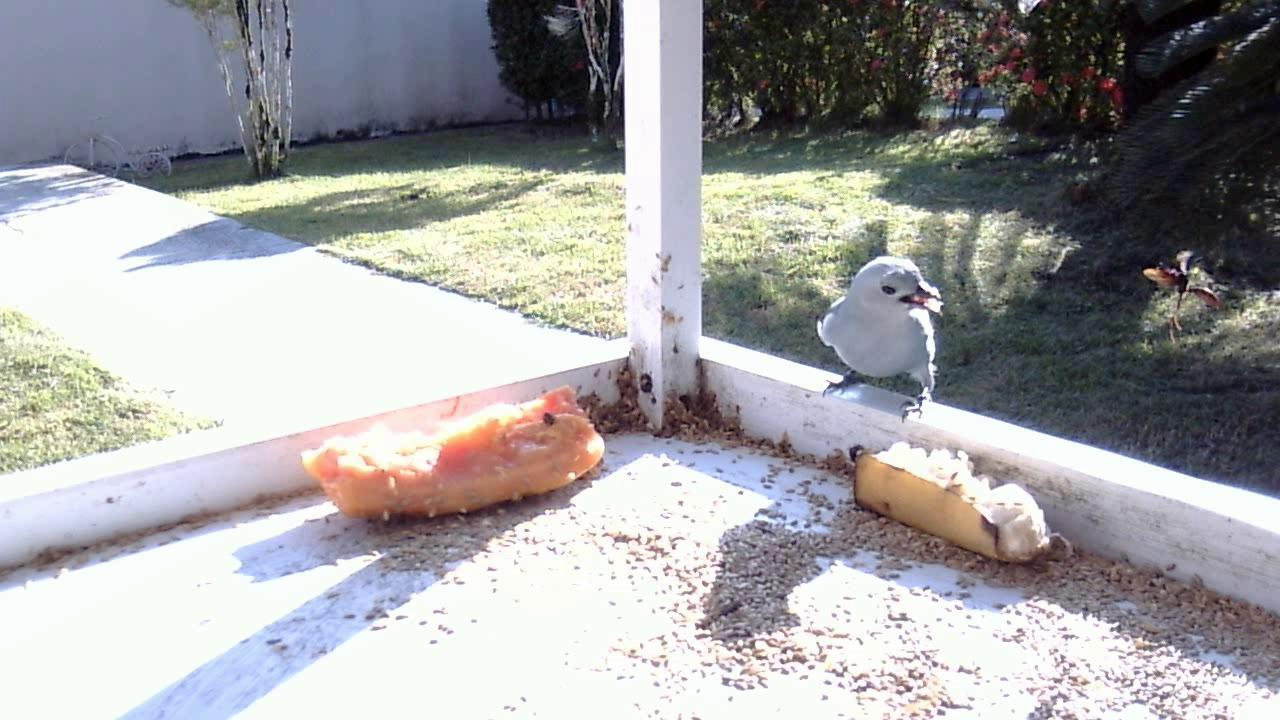sanhaco_da_amazonia: (805, 250, 944, 420)
